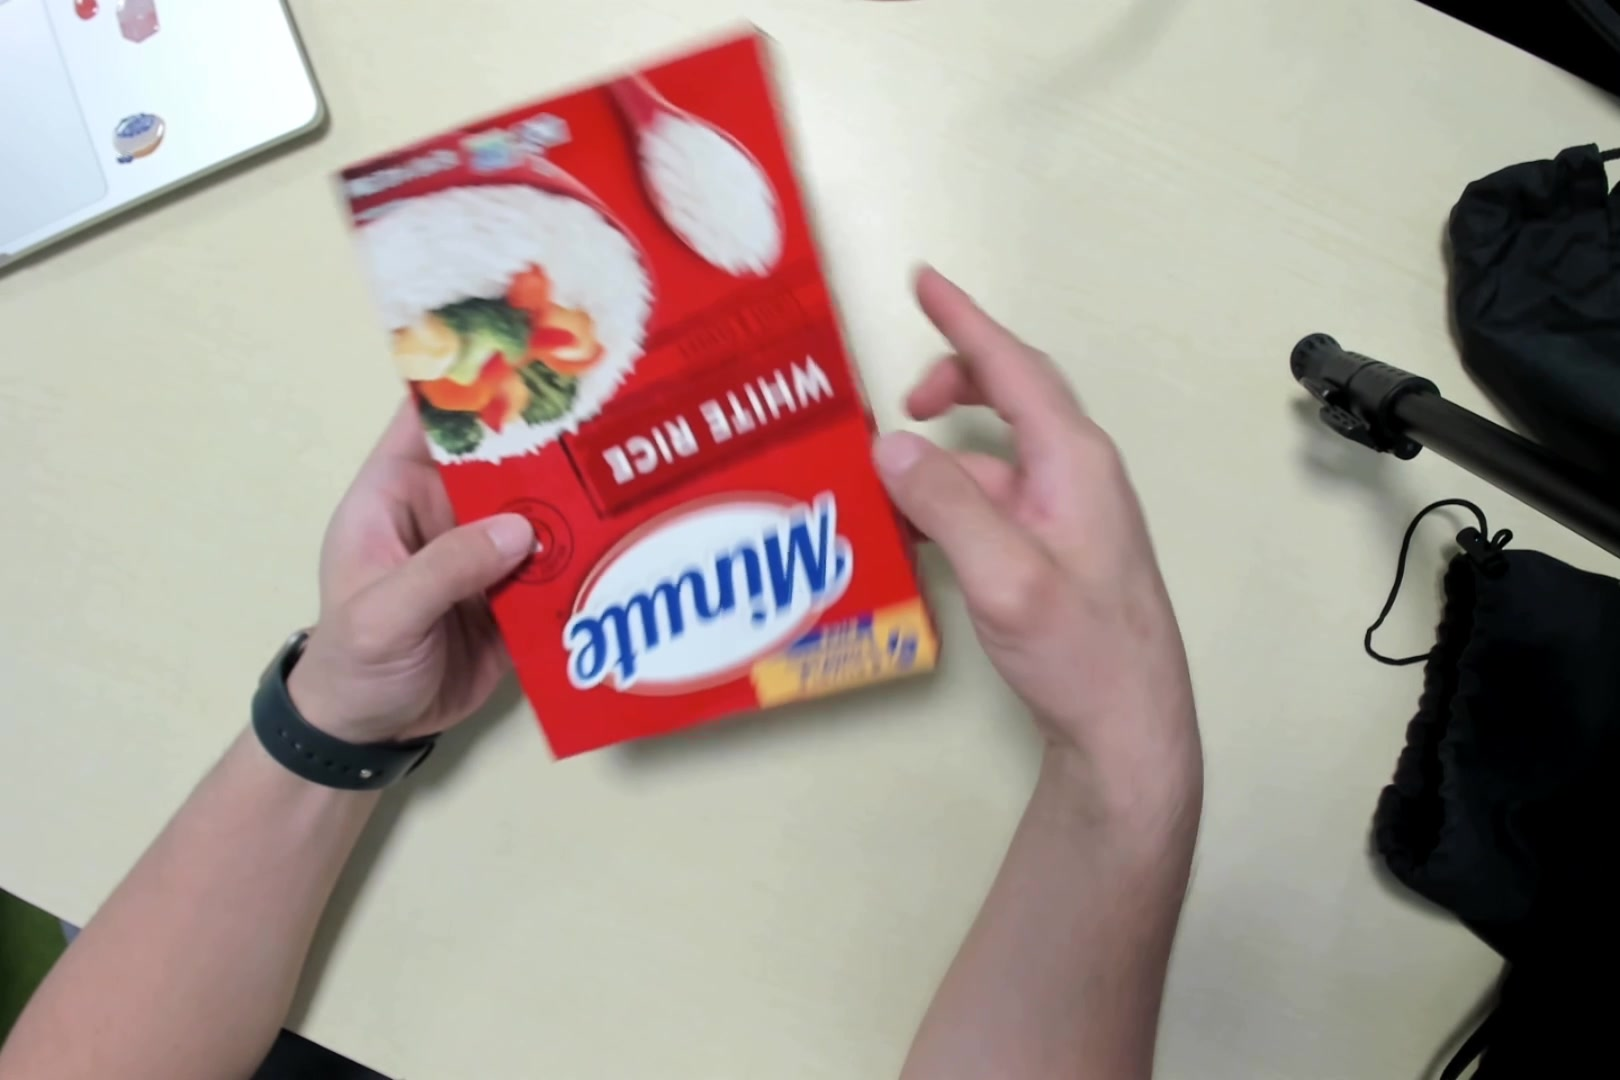Rice(White)_300-399g_NonHalal_NonHealthy: (337, 34, 943, 770)
